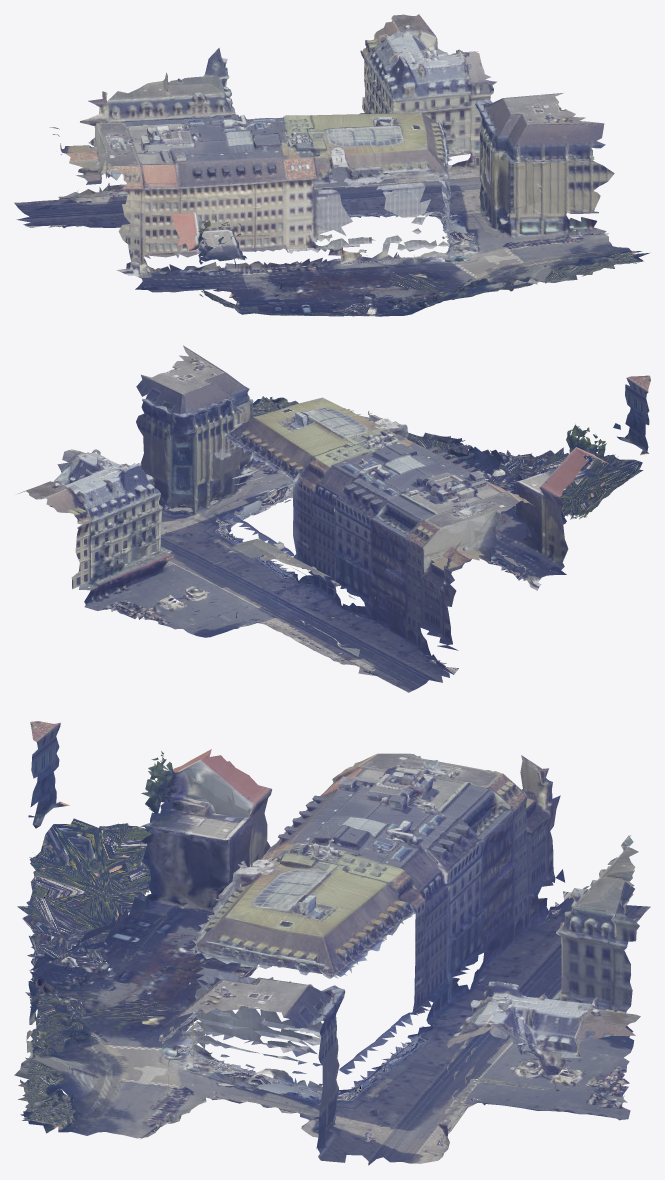
The picture shows the model from 3 angles, top to bottom: view 1: azimuth 30°, elevation 25°; view 2: azimuth 150°, elevation 25°; view 3: azimuth 270°, elevation 25°; orthographic projection. The views are drawn at different scales.
Bounding box in the file's own units: 109 × 36.05 × 108.
1 material, 1 textured.
